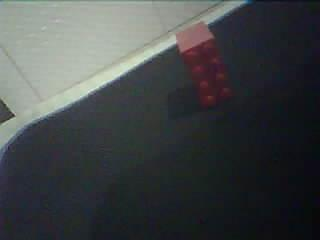lego: (174, 21, 233, 110)
